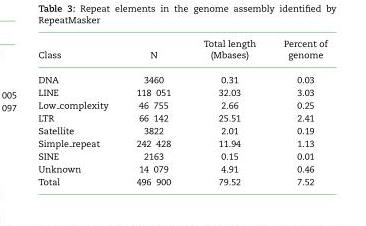table: (37, 37, 326, 186)
table column: (37, 37, 121, 186), (186, 37, 269, 186), (121, 37, 186, 186), (269, 37, 326, 186)
table column header: (37, 37, 326, 66)
table row: (37, 37, 326, 66), (37, 66, 326, 85), (37, 85, 326, 98), (37, 98, 326, 111), (37, 123, 326, 136), (37, 136, 326, 149), (37, 149, 326, 162), (37, 111, 326, 123), (37, 162, 326, 174), (37, 174, 326, 186)
